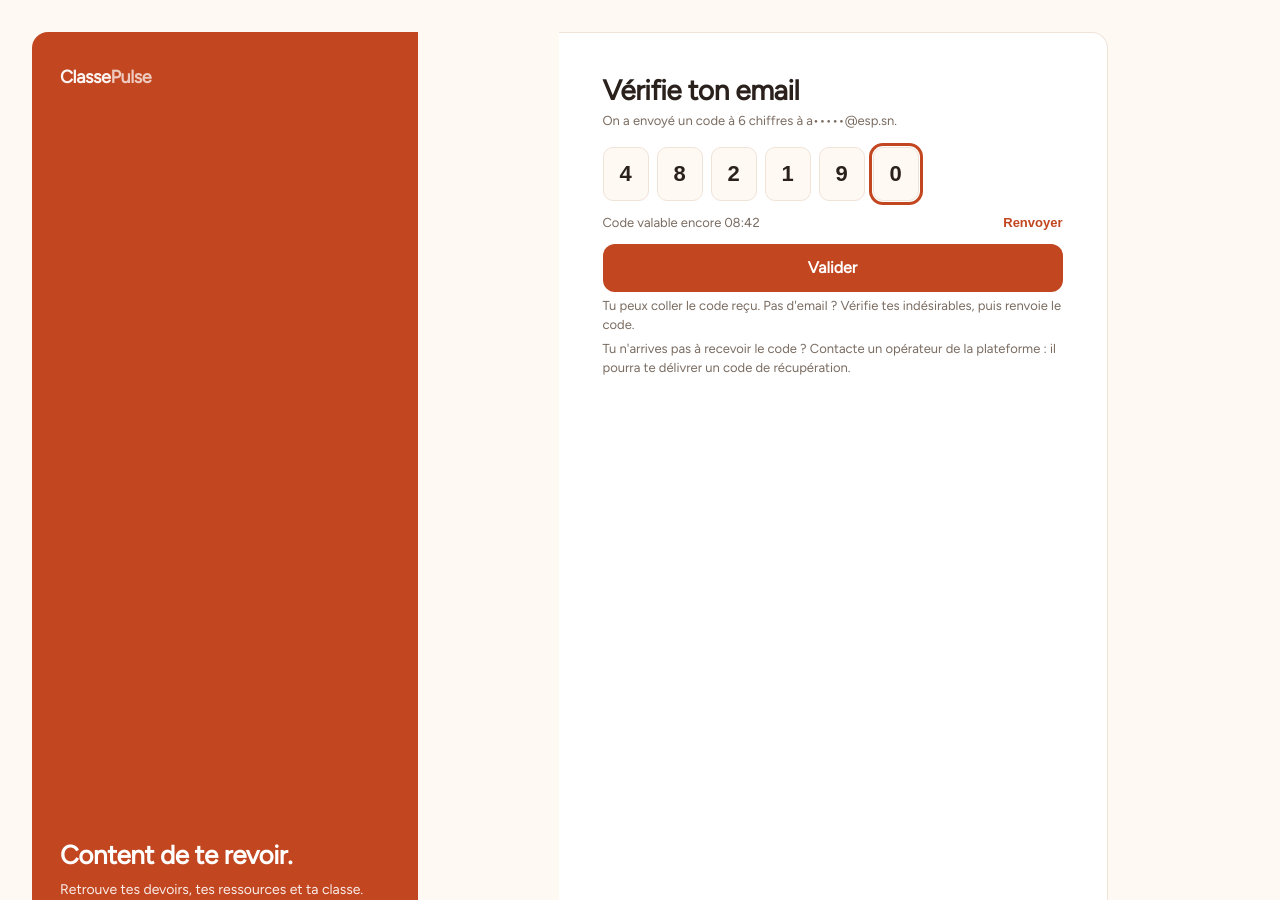
Test case: code à 6 chiffres (P2, M8) › code incorrect : essais restants, cases conservées, focus au premier champ
Click the button "Valider": (832, 268) 602,244 -> 1062,292
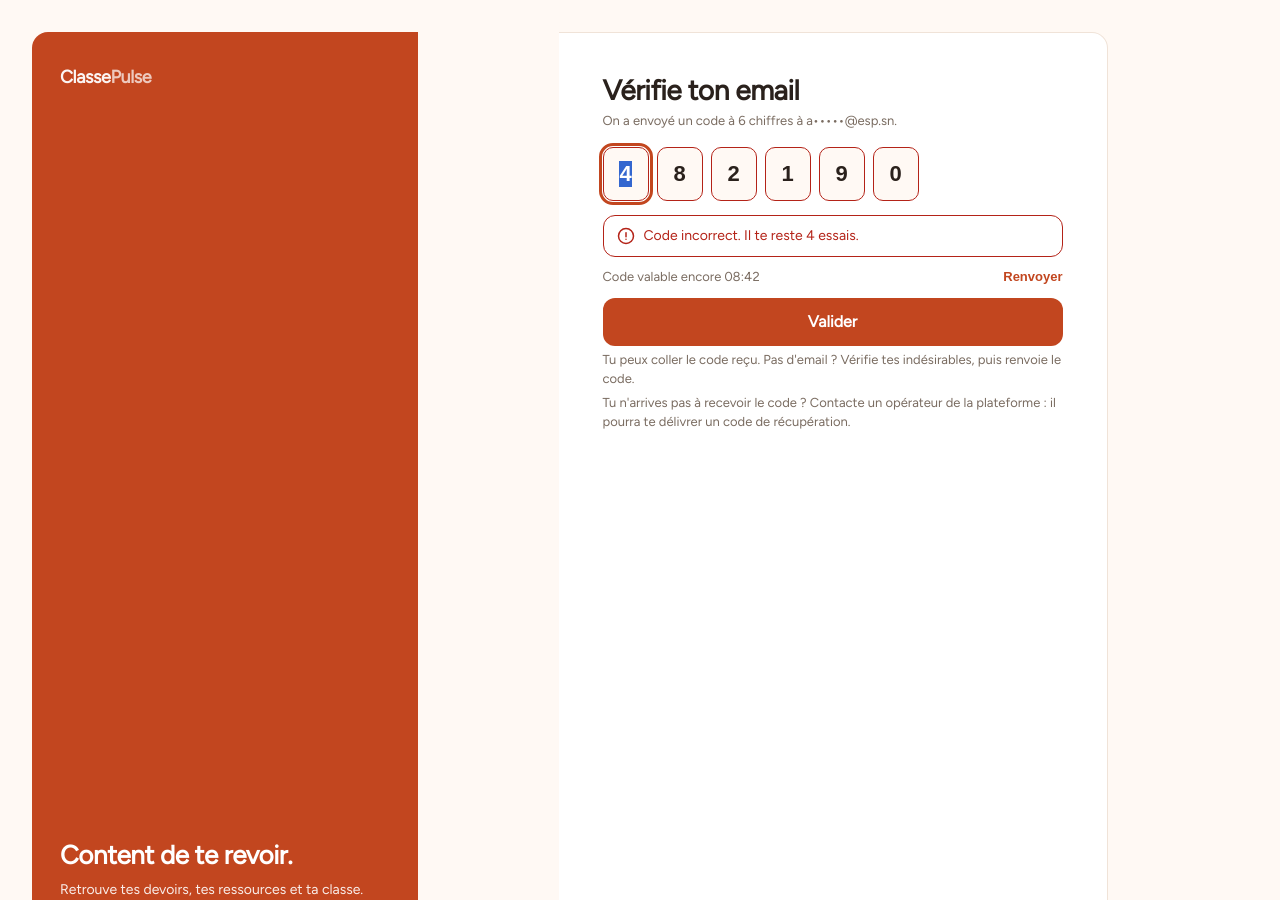
Check: the message reads "Code incorrect. Il te reste 4 essais.", box 644,226 -> 859,244
